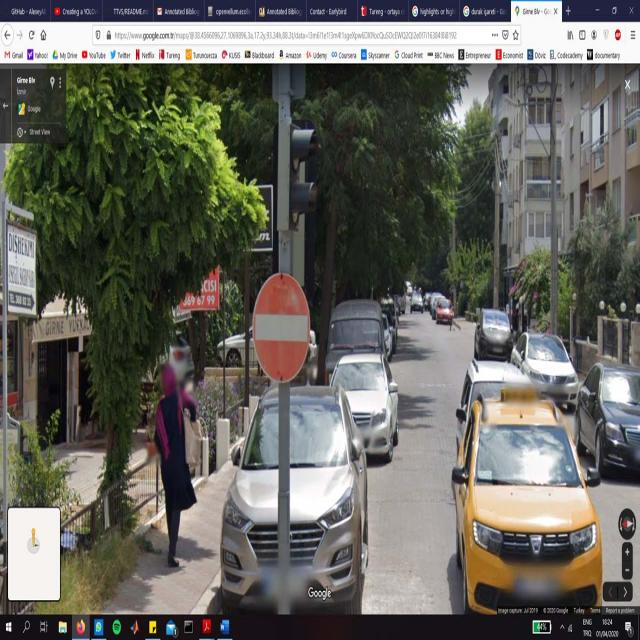girisyok: (254, 274, 314, 386)
